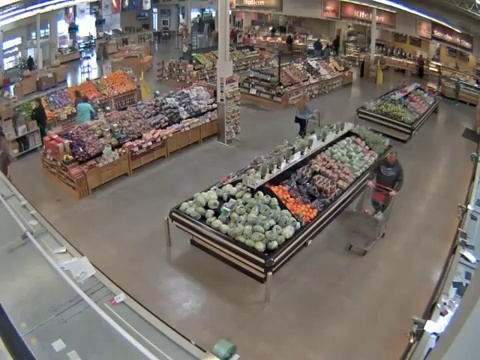face: (386, 154, 396, 164)
